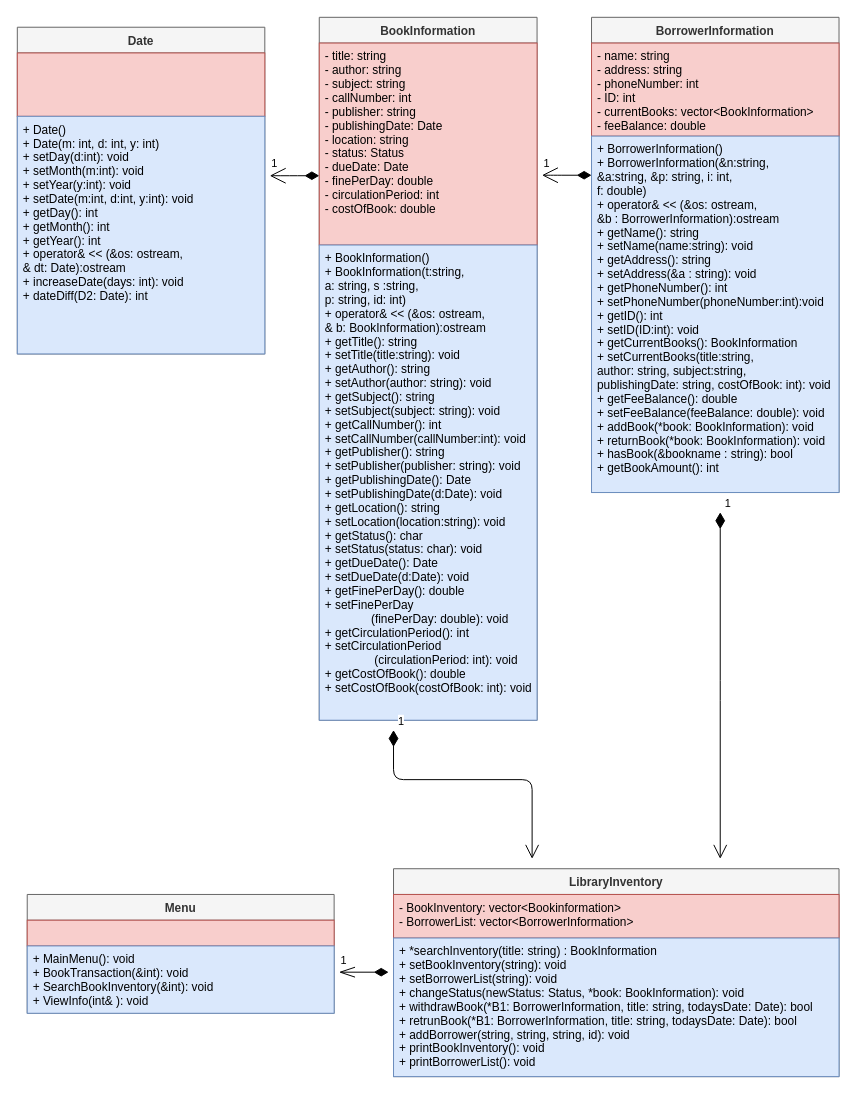
Image size: 856x1097. Some labels were removed from this diagram. Here are the shapes that lost their labels. From the top down, the centre of each, then its label:
the point at 140,84: - day: int - month: int - year: int
the point at 180,932: - LibraryData: LibraryInventory
